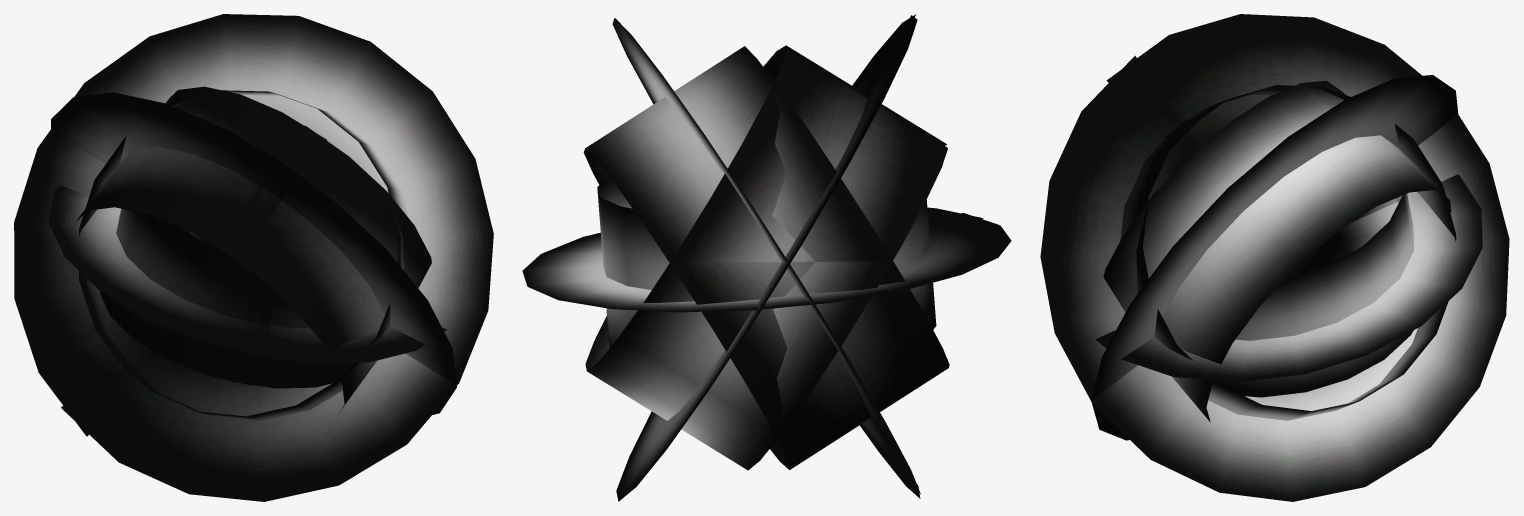
Rendered from vfx_kurp_0173.dae.
3 renders of one model, left to right at view 1: azimuth 30°, elevation 25°; view 2: azimuth 150°, elevation 25°; view 3: azimuth 270°, elevation 25°, orthographic. The views are drawn at different scales.
Visible parts, largest first — view 1: vfx_kurp_0173; view 2: vfx_kurp_0173; view 3: vfx_kurp_0173.
Part boxes in pixels (<box>): vfx_kurp_0173: <box>14,14,493,501</box>; vfx_kurp_0173: <box>522,14,1011,501</box>; vfx_kurp_0173: <box>1040,14,1509,501</box>.
Size of the model in its own units: 17.48 by 19.81 by 18.31.
Materials: 1 (1 with a texture image).
